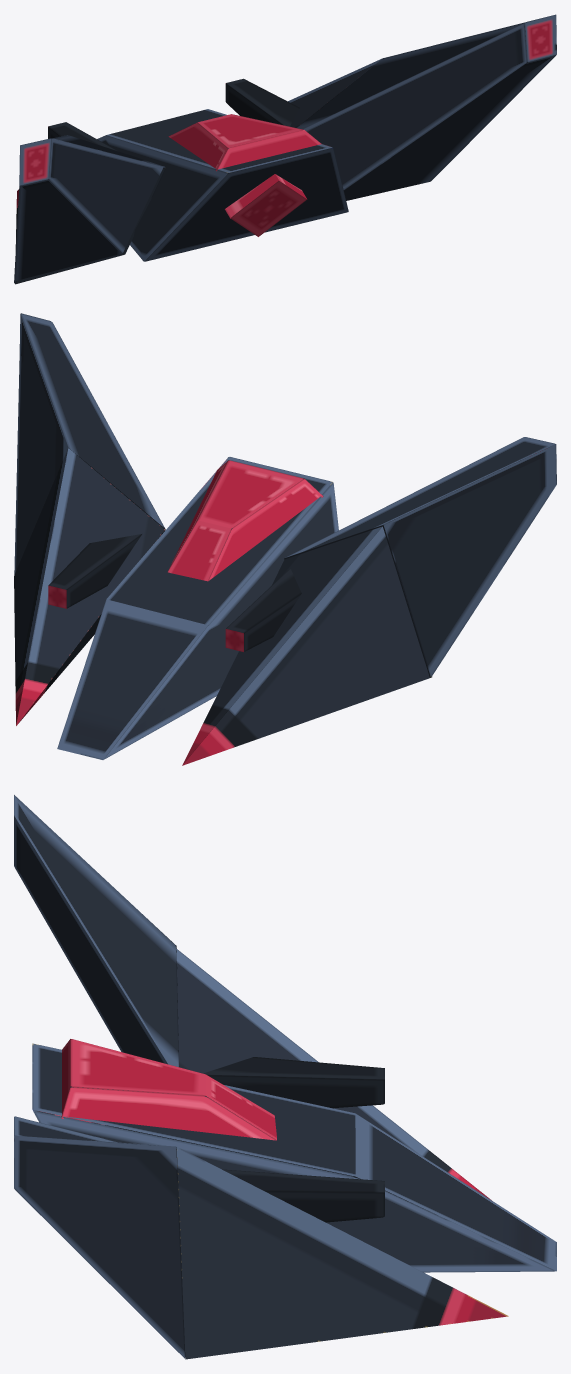
File: EnemySpaceship.fbx
3 views of the same model, one above another, from view 1: azimuth 30°, elevation 25°; view 2: azimuth 150°, elevation 25°; view 3: azimuth 270°, elevation 25° (orthographic). The views are drawn at different scales.
Parts seen in each view (by area): view 1: Propulsor Right, Cuerpo, Propulsor Left, Cabina, Propilsor trasero, pistola derecha, Ala/Arma Right, Ala/Arma Left, pistola izquierda; view 2: Cuerpo, Ala/Arma Left, Propulsor Left, Ala/Arma Right, Propulsor Right, Cabina, pistola derecha, pistola izquierda; view 3: Ala/Arma Right, Cuerpo, Propulsor Right, Propulsor Left, Cabina, Ala/Arma Left, pistola izquierda, pistola derecha.
Part boxes in pixels (left/top/right/bottom): Propulsor Right: left=297, top=14, right=556, bottom=200; Cuerpo: left=97, top=109, right=348, bottom=261; Propulsor Left: left=14, top=135, right=165, bottom=283; Cabina: left=168, top=114, right=321, bottom=171; Propilsor trasero: left=225, top=174, right=307, bottom=236; pistola derecha: left=225, top=78, right=299, bottom=126; Ala/Arma Right: left=288, top=58, right=382, bottom=127; Ala/Arma Left: left=15, top=167, right=165, bottom=284; pistola izquierda: left=48, top=122, right=118, bottom=151; Cuerpo: left=57, top=457, right=338, bottom=759; Ala/Arma Left: left=182, top=524, right=432, bottom=765; Propulsor Left: left=284, top=437, right=556, bottom=677; Ala/Arma Right: left=14, top=448, right=164, bottom=725; Propulsor Right: left=14, top=313, right=165, bottom=574; Cabina: left=168, top=460, right=323, bottom=581; pistola derecha: left=48, top=534, right=141, bottom=608; pistola izquierda: left=225, top=568, right=301, bottom=651; Ala/Arma Right: left=176, top=1147, right=508, bottom=1359; Cuerpo: left=32, top=1043, right=556, bottom=1272; Propulsor Right: left=14, top=1116, right=185, bottom=1358; Propulsor Left: left=14, top=795, right=183, bottom=1141; Cabina: left=61, top=1039, right=276, bottom=1140; Ala/Arma Left: left=176, top=948, right=491, bottom=1200; pistola izquierda: left=203, top=1057, right=384, bottom=1108; pistola derecha: left=222, top=1169, right=384, bottom=1222.
Bounding box in the file's own units: 1476 × 602 × 991.
1 material, 1 textured.
